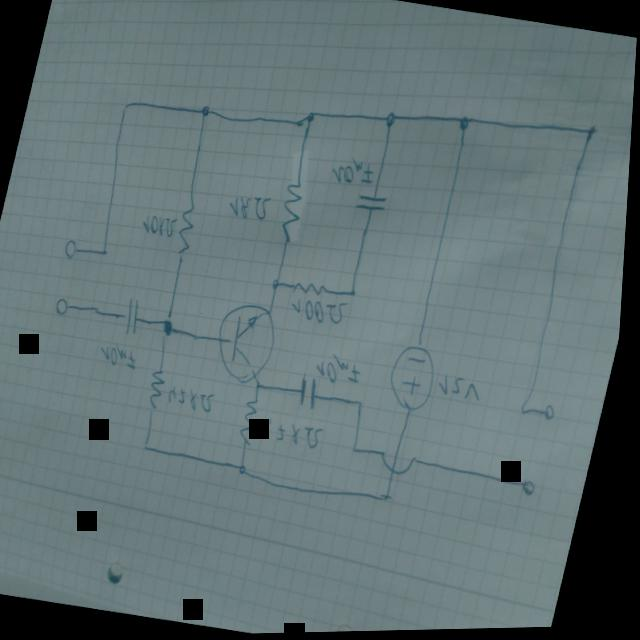capacitor: (299, 373, 326, 412), (353, 191, 392, 218), (124, 297, 148, 337)
crossover: (380, 449, 425, 482)
junction: (162, 315, 182, 339), (456, 114, 476, 136), (584, 123, 604, 145), (384, 110, 401, 132), (521, 401, 537, 421), (304, 110, 320, 128), (199, 104, 214, 122), (239, 462, 254, 479), (385, 491, 400, 507), (274, 275, 287, 293), (350, 285, 362, 303), (354, 443, 367, 459), (101, 246, 114, 259), (121, 100, 132, 114), (258, 380, 269, 393), (360, 399, 371, 412), (146, 440, 156, 452)
resistor: (275, 178, 311, 248), (173, 201, 202, 262), (240, 397, 268, 449), (147, 365, 173, 415), (293, 278, 333, 302)
source: (386, 340, 447, 418)
terminal: (64, 237, 82, 261), (524, 479, 545, 499), (56, 296, 75, 318), (547, 404, 564, 427)
text: (260, 416, 331, 453), (291, 294, 354, 330), (329, 153, 382, 192), (317, 351, 369, 390), (227, 189, 276, 226), (169, 384, 222, 417), (440, 374, 491, 406), (99, 341, 145, 371), (141, 213, 181, 240)
transistor: (210, 299, 287, 391)
